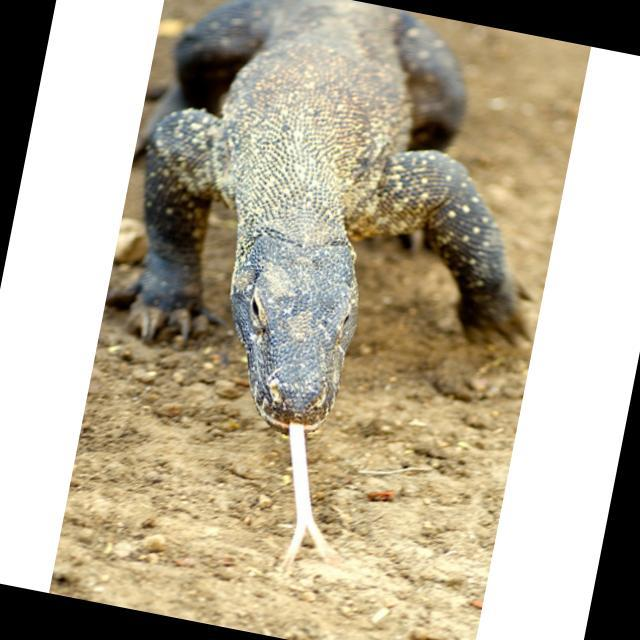KomodoDragon: (66, 0, 591, 604)
